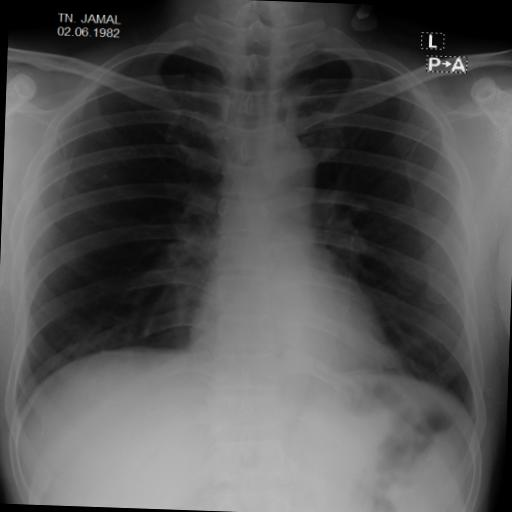normal: (6, 44, 500, 454)
